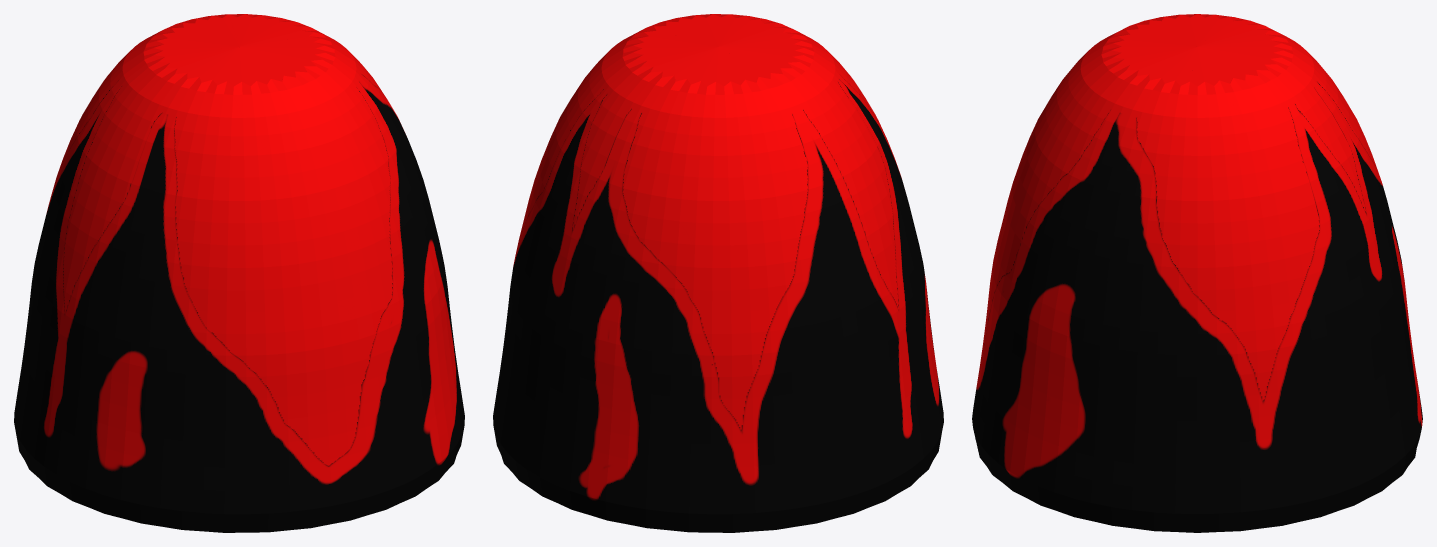
The model's file is smoke-outside.fbx.
3 renders of one model, left to right at view 1: azimuth 30°, elevation 25°; view 2: azimuth 150°, elevation 25°; view 3: azimuth 270°, elevation 25°, orthographic.
Parts seen in each view (by area): view 1: Cylinder; view 2: Cylinder; view 3: Cylinder.
Part boxes in pixels (x1=…): Cylinder: x1=14, y1=14, x2=464, y2=532; Cylinder: x1=493, y1=14, x2=943, y2=532; Cylinder: x1=972, y1=14, x2=1422, y2=532.
Bounding box in the file's own units: 194 × 197 × 194.
